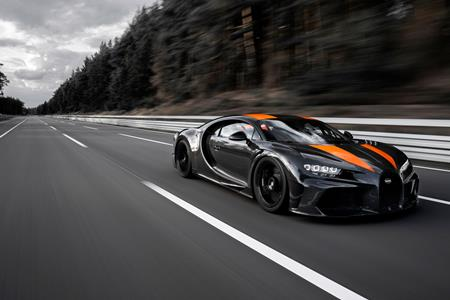car: (173, 112, 427, 223)
